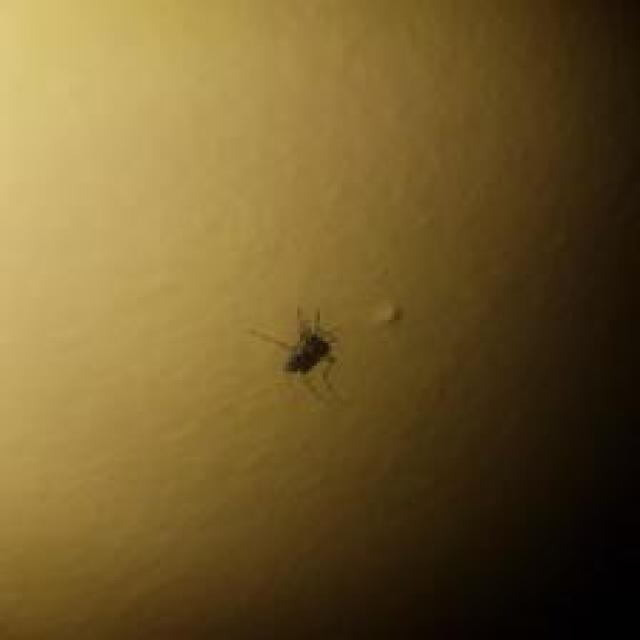Aedes albopictus: (248, 304, 343, 402)
